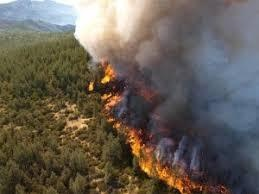fire: (84, 51, 192, 186)
